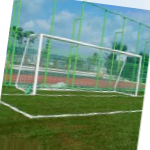goals: (14, 30, 143, 100)
